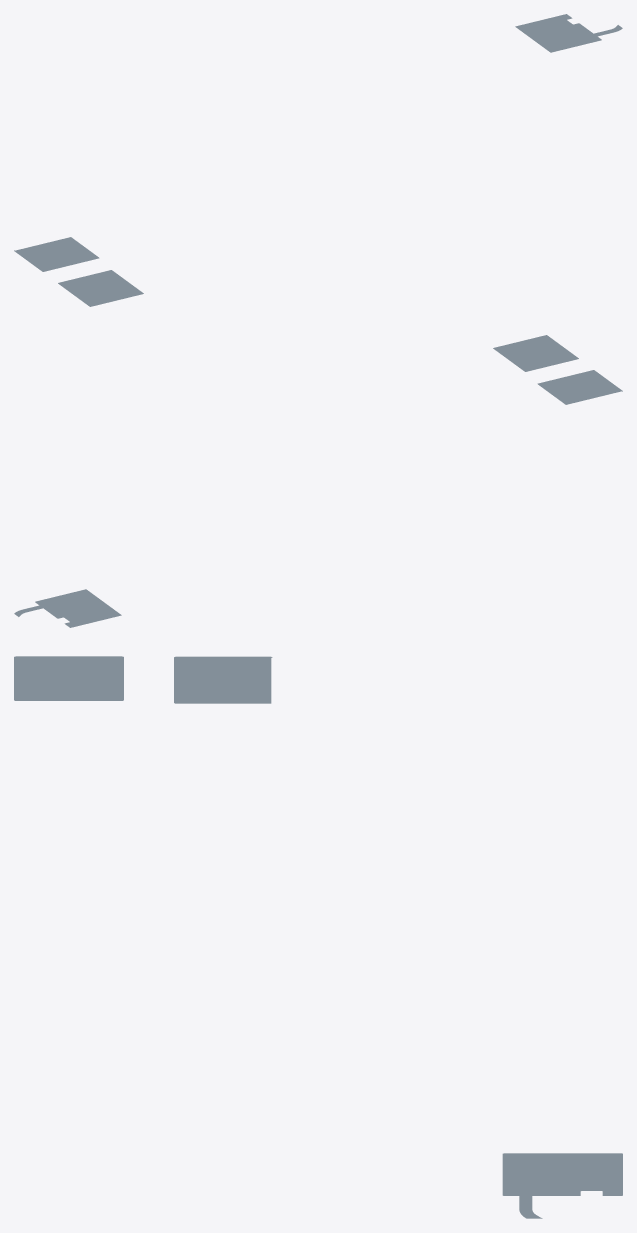
The model's file is SM_GHSPark_Roads.fbx.
3 renders of one model, top to bottom at view 1: azimuth 30°, elevation 25°; view 2: azimuth 210°, elevation 25°; view 3: azimuth 270°, elevation 25°, orthographic. The views are drawn at different scales.
Parts seen in each view (by area): view 1: SM_GHSPark_Roads; view 2: SM_GHSPark_Roads; view 3: SM_GHSPark_Roads.
Boxes of the visible parts, x1,y1,x2,y2 form: SM_GHSPark_Roads: [14, 14, 622, 306]; SM_GHSPark_Roads: [14, 335, 622, 627]; SM_GHSPark_Roads: [14, 656, 622, 1218].
Bounding box in the file's own units: 52955 × 24250 × 0.
